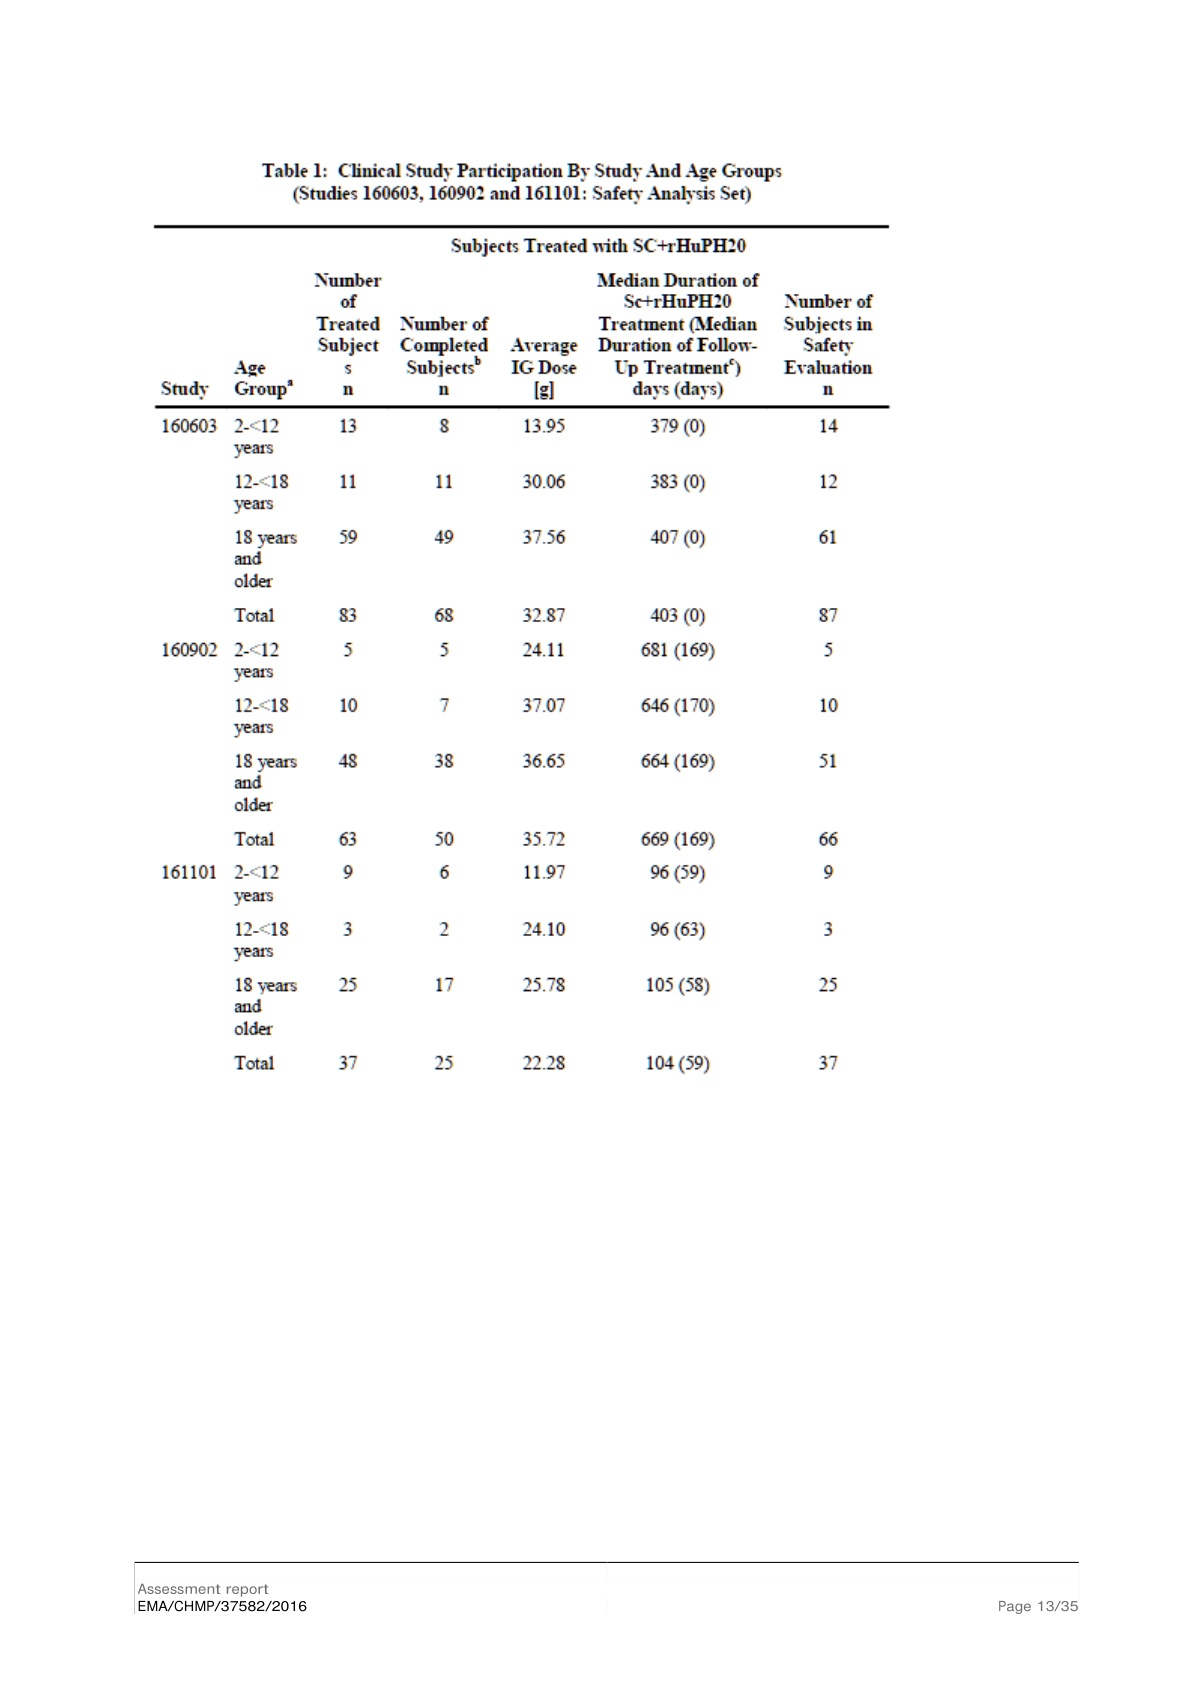partial_lined_merged_cells: (153, 225, 892, 1075)
